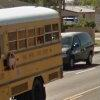Bus: (1, 2, 68, 95)
